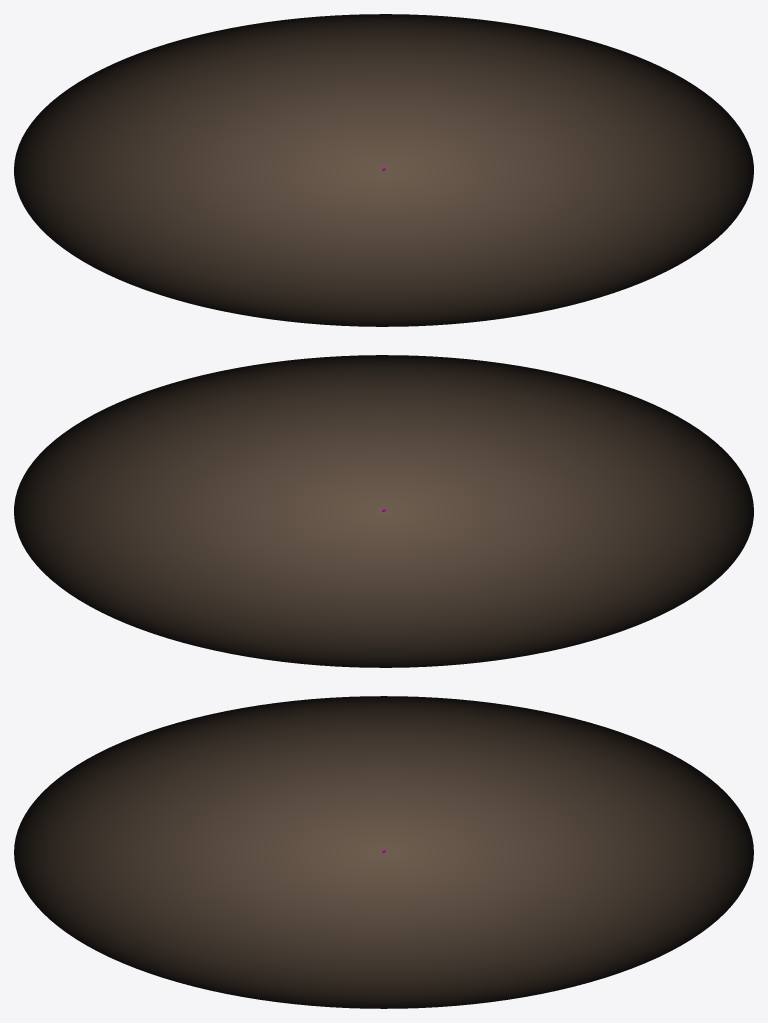
The model's file is M_Zone.FBX.
3 renders of one model, top to bottom at view 1: azimuth 30°, elevation 25°; view 2: azimuth 150°, elevation 25°; view 3: azimuth 270°, elevation 25°, orthographic.
Visible parts, largest first — view 1: Cylinder003; view 2: Cylinder003; view 3: Cylinder003.
Part boxes in pixels (x1=…): Cylinder003: x1=14, y1=14, x2=753, y2=326; Cylinder003: x1=14, y1=355, x2=753, y2=667; Cylinder003: x1=14, y1=696, x2=753, y2=1008.
Bounding box in the file's own units: 188514 × 394 × 188514.
